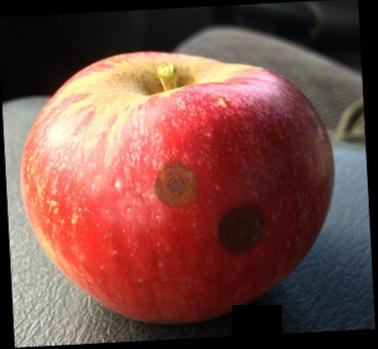rotten apple: (20, 50, 335, 323)
